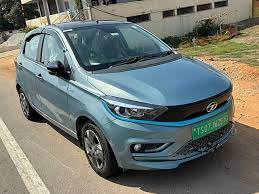Tiago: (12, 16, 238, 186)
